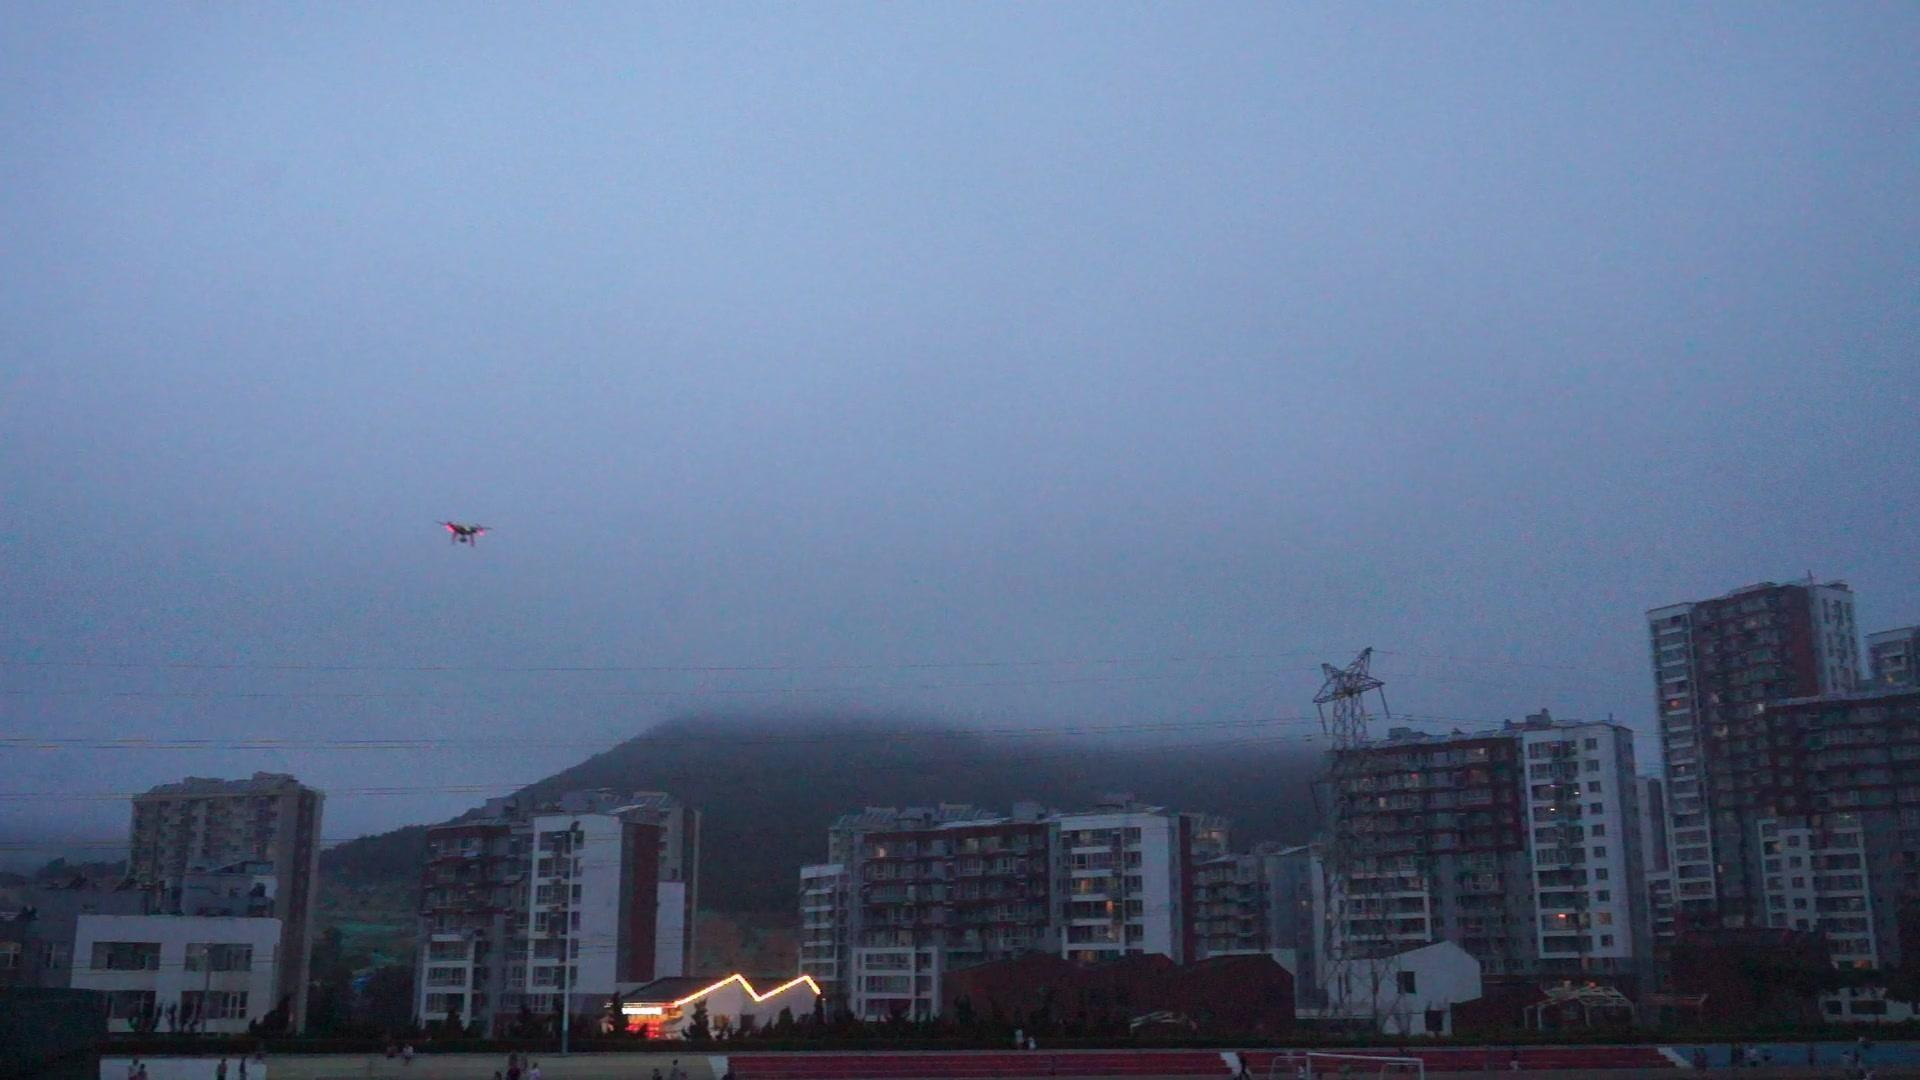UAV: (433, 521, 495, 549)
